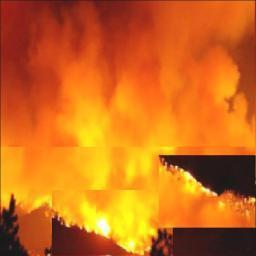Heavy smoke: (0, 1, 256, 145)
Large fire: (55, 190, 157, 256), (160, 170, 253, 224)
